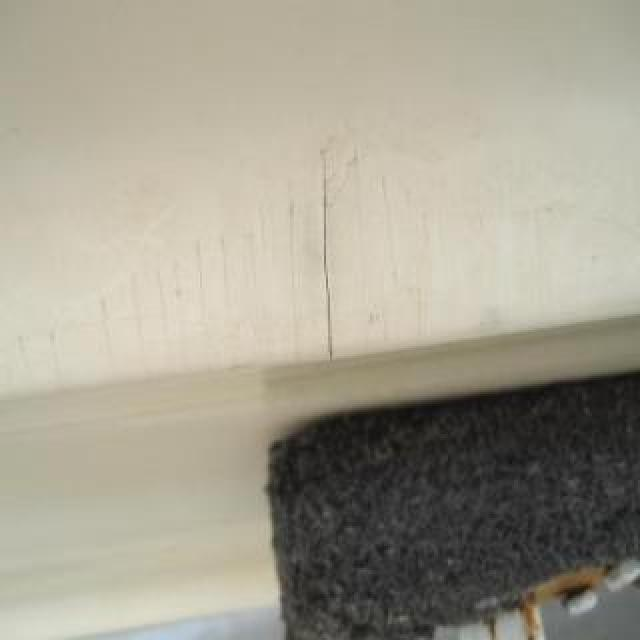crack: (245, 200, 285, 370), (351, 142, 369, 354), (403, 178, 425, 346), (320, 143, 336, 365), (377, 170, 399, 322), (217, 225, 239, 371), (286, 191, 304, 369), (192, 237, 212, 371), (169, 257, 189, 375)
